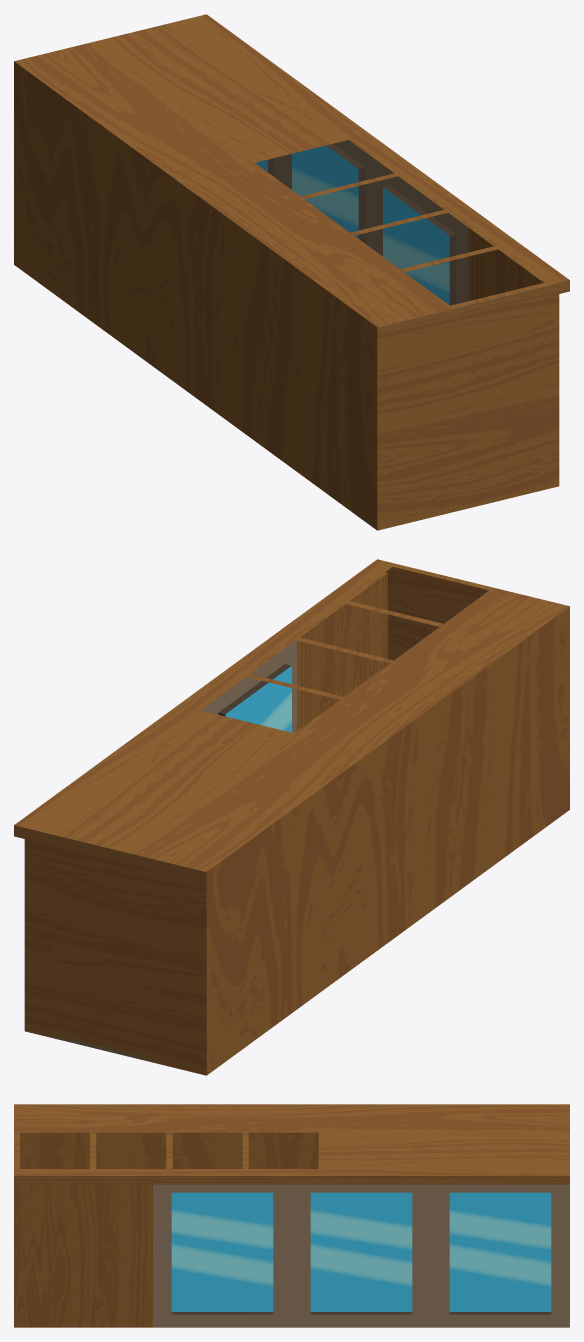
File: rabstol.fbx
The picture shows the model from 3 angles, top to bottom: view 1: azimuth 30°, elevation 25°; view 2: azimuth 150°, elevation 25°; view 3: azimuth 270°, elevation 25°; orthographic projection. The views are drawn at different scales.
Parts seen in each view (by area): view 1: Cube; view 2: Cube; view 3: Cube.
Part boxes in pixels (x1=…): Cube: x1=14, y1=14, x2=569, y2=530; Cube: x1=14, y1=559, x2=569, y2=1075; Cube: x1=14, y1=1104, x2=569, y2=1327.
Size of the model in its own units: 272 by 274 by 888.
